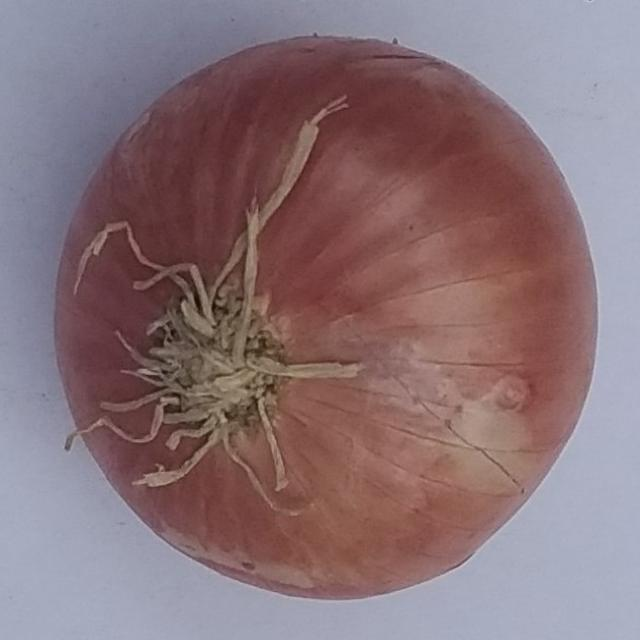onion: (52, 36, 600, 602)
